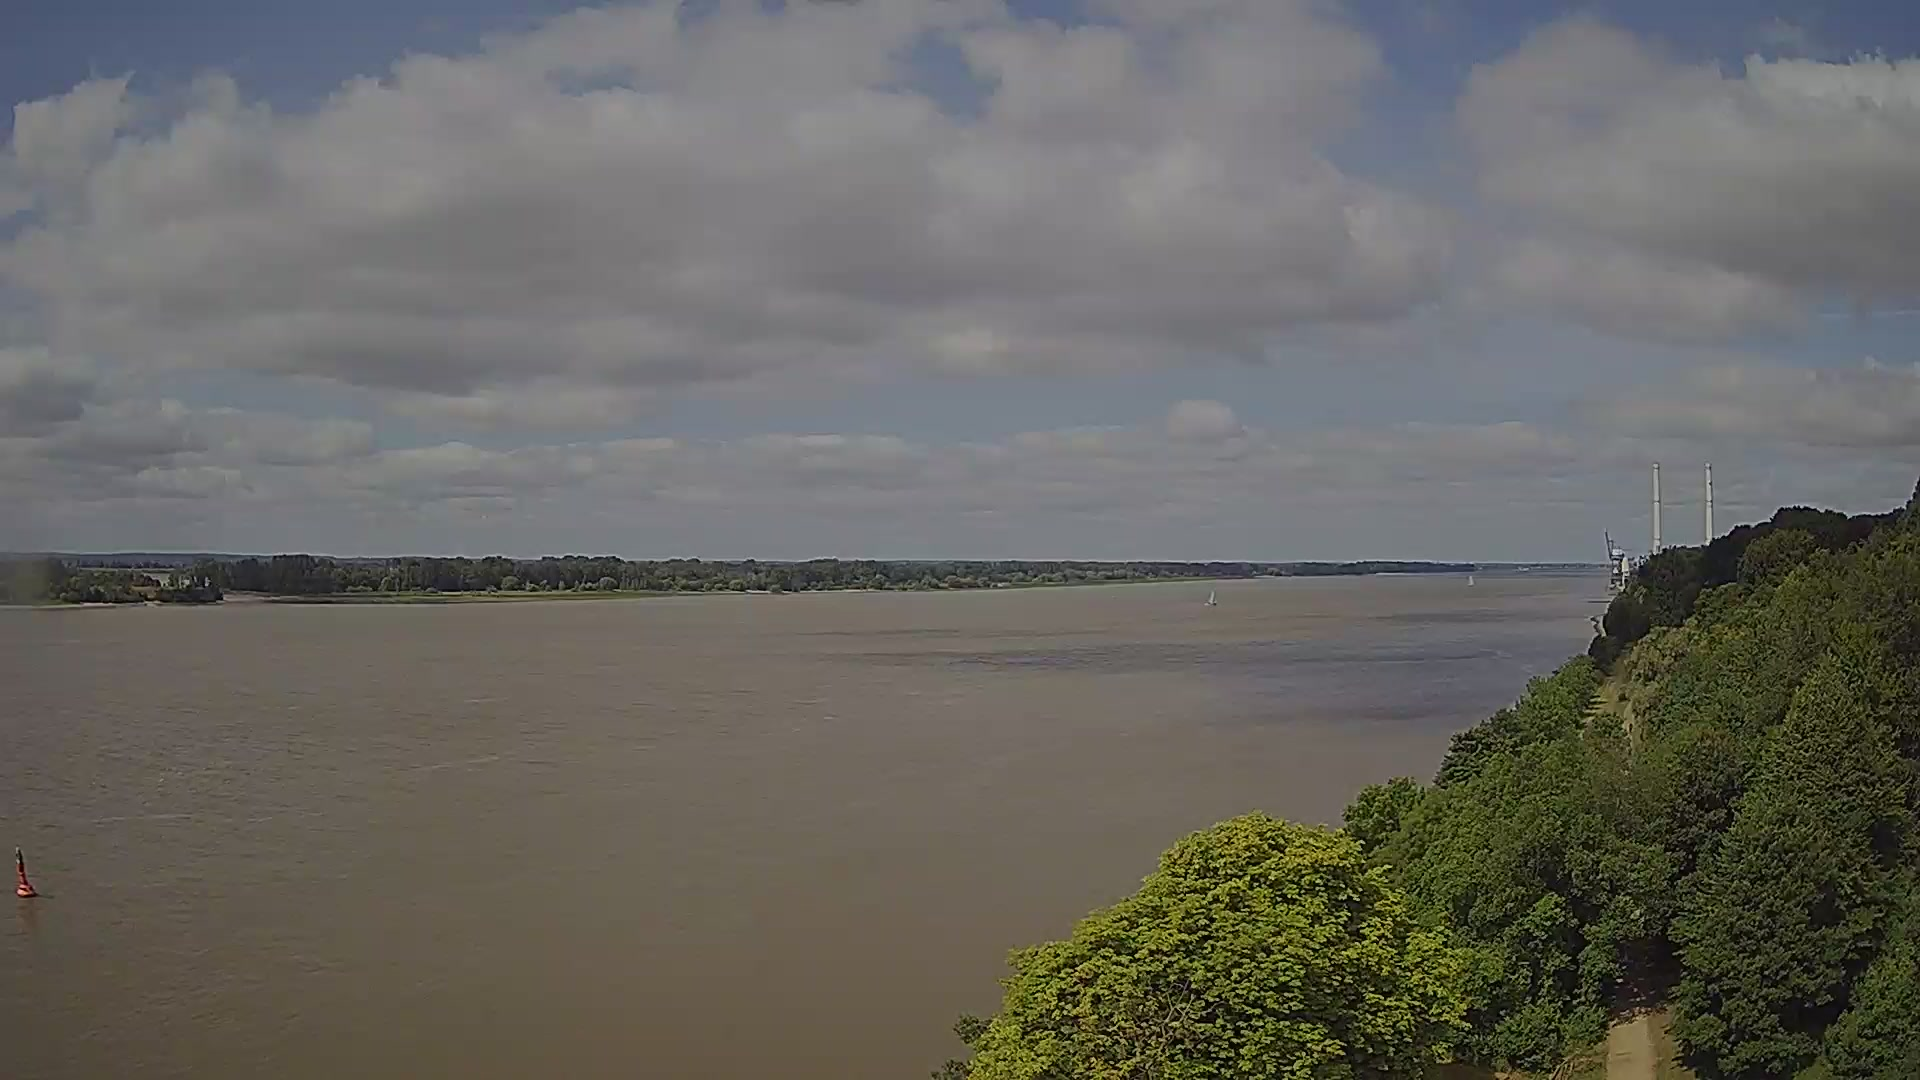sea: (1205, 589, 1217, 605), (1513, 564, 1530, 572), (1466, 574, 1476, 585)
